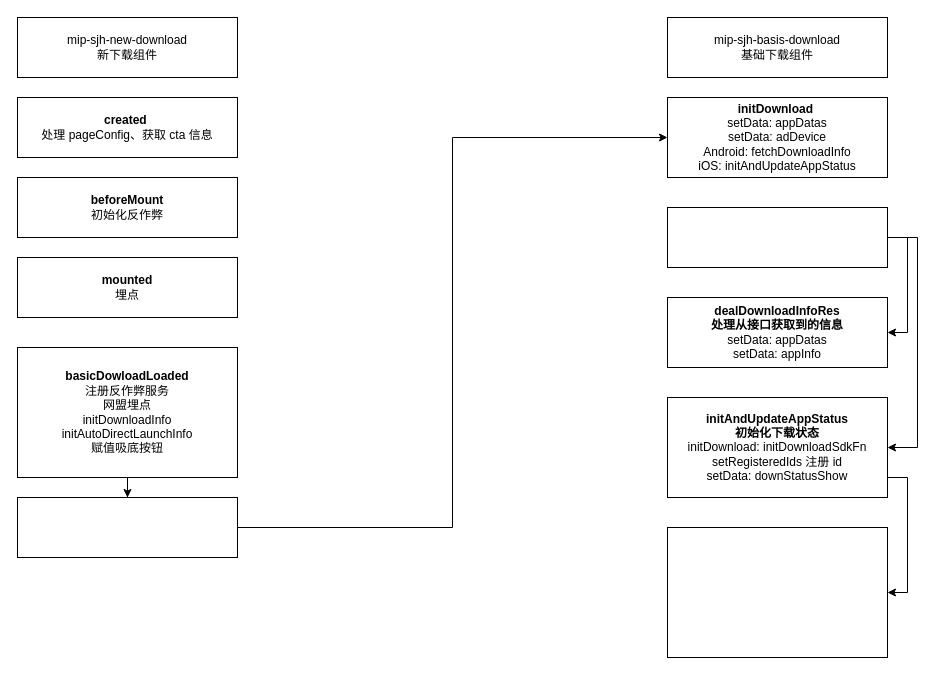
The diagram is 943 pixels wide and 675 high, and some of its shapes have lost their labels. Here are the shapes that lost their labels. From the top down, the centre of each, then its label:
At [777,237]: "fetchDownloadInfo 请求 packageInfo 接口获取包信息 没获取到则异常埋点".
At [127,527]: "initDownloadInfo downloadTools.initDownload".
At [777,592]: "initDownloadSdkFn 初始化 download sdk downloadSdk() setData: downloadSdk".
